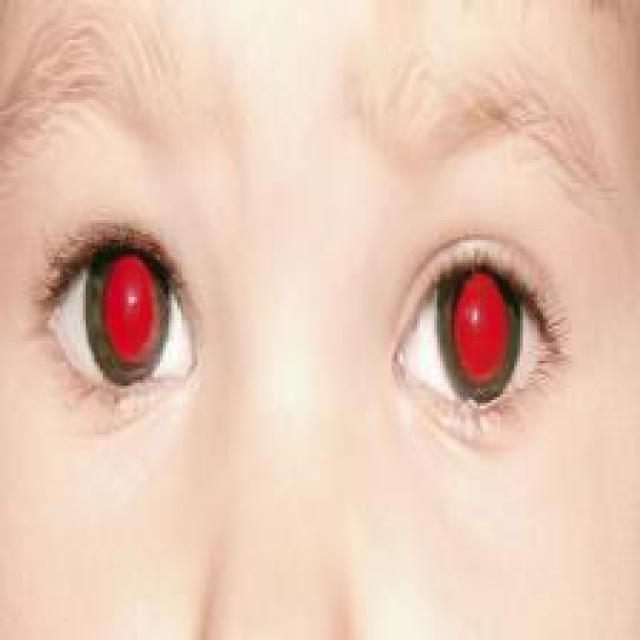reflexo-normal: (41, 225, 190, 427), (401, 241, 555, 420)
